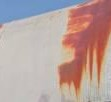Corrosion: (57, 1, 111, 102)
